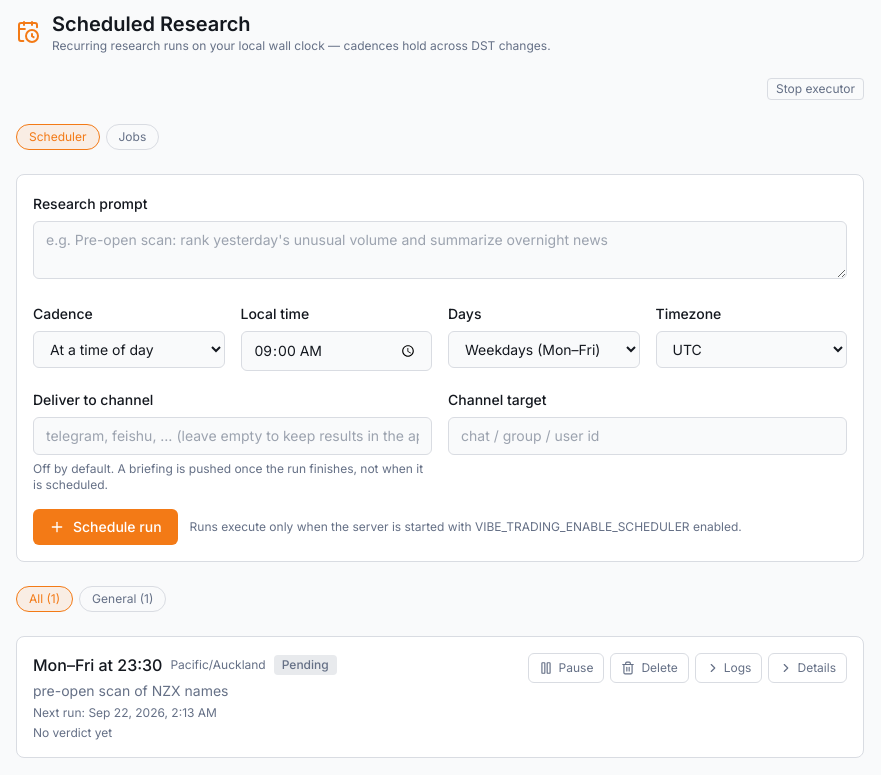
Test: pause, resume, and cancel controls › pauses a running-schedule job and shows the paused badge after refresh
The width and height of the screenshot is (881, 775).
Click the button with aria-label "Pause scheduled run".
click(566, 668)  # box [528,653,604,683]
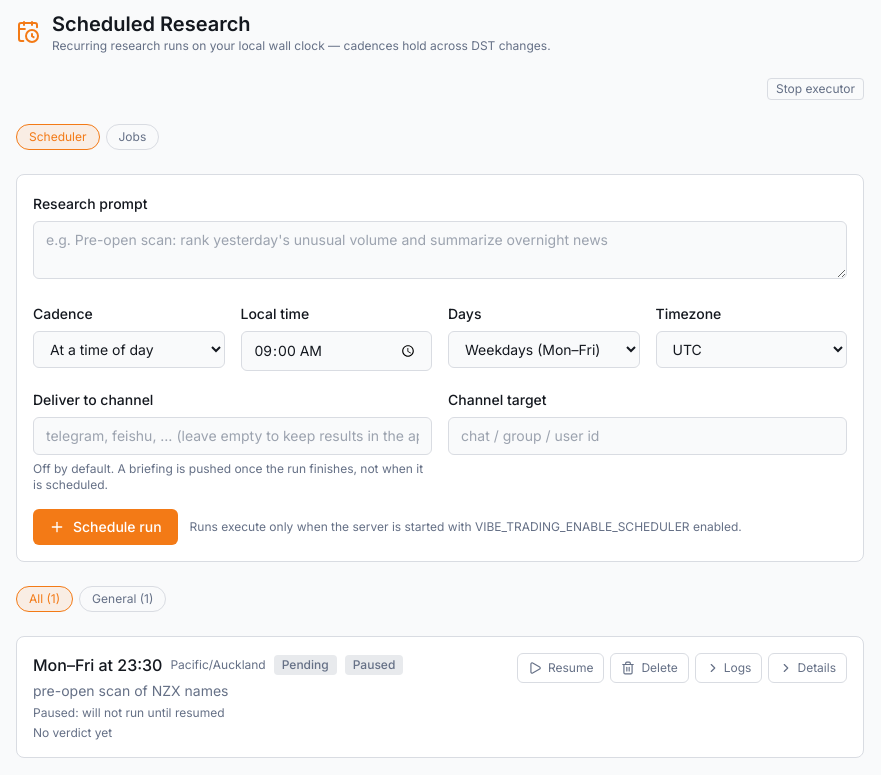
Expected: the text "Paused" is shown, [345,655,403,675]
